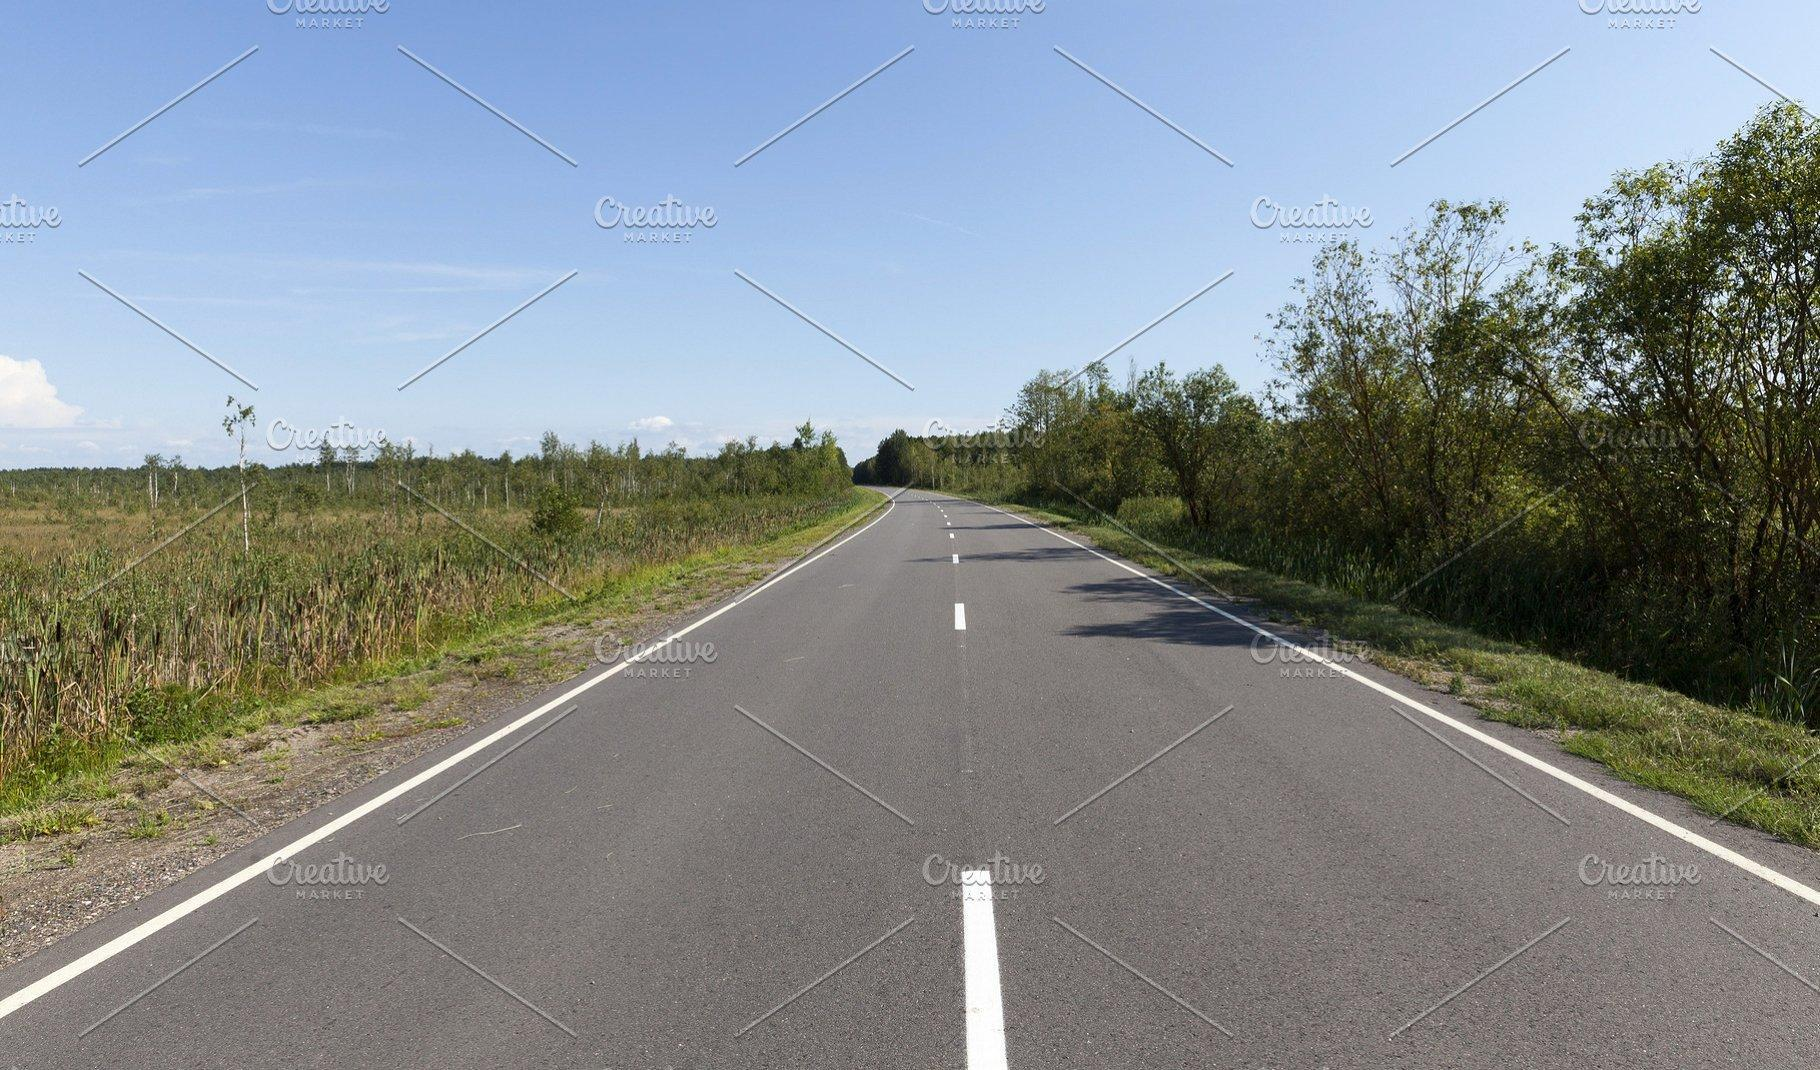watersign: (1541, 836, 1705, 932), (573, 176, 758, 257), (1215, 614, 1386, 701), (579, 624, 758, 706), (1230, 166, 1377, 256), (885, 841, 1058, 917)
